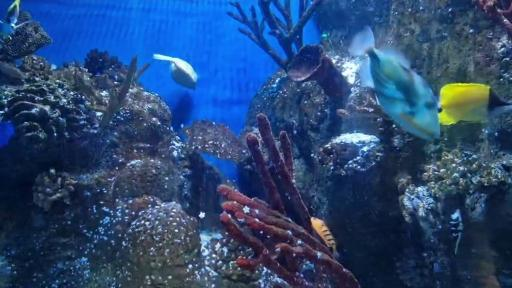Fish: (349, 27, 512, 140), (153, 54, 198, 89), (2, 0, 29, 37), (311, 217, 337, 254)
